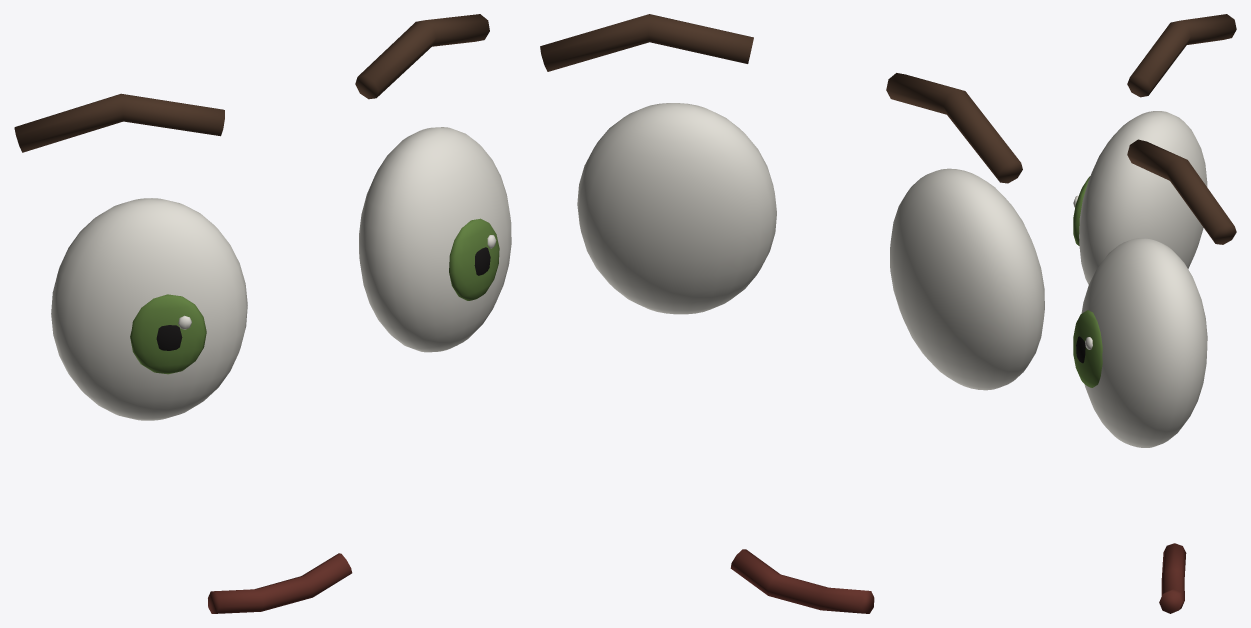
File: face_wide.fbx
3 views of the same model, side by side, from view 1: azimuth 30°, elevation 25°; view 2: azimuth 150°, elevation 25°; view 3: azimuth 270°, elevation 25° (orthographic). The views are drawn at different scales.
Visible parts, largest first — view 1: face_wide; view 2: face_wide; view 3: face_wide.
Boxes of the visible parts, left/top/right/bottom form: face_wide: left=14, top=14, right=511, bottom=613; face_wide: left=540, top=14, right=1044, bottom=613; face_wide: left=1073, top=14, right=1236, bottom=613.
Bounding box in the file's own units: 0.187 × 0.2072 × 0.0604.
